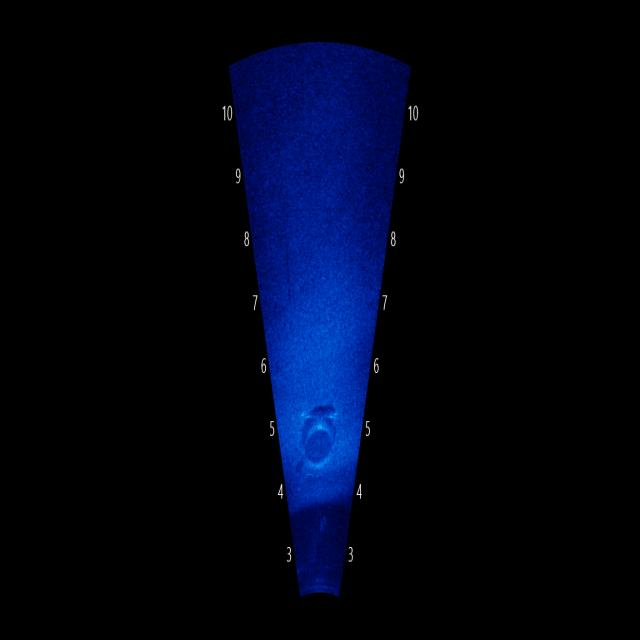circle: (294, 393, 345, 485)
